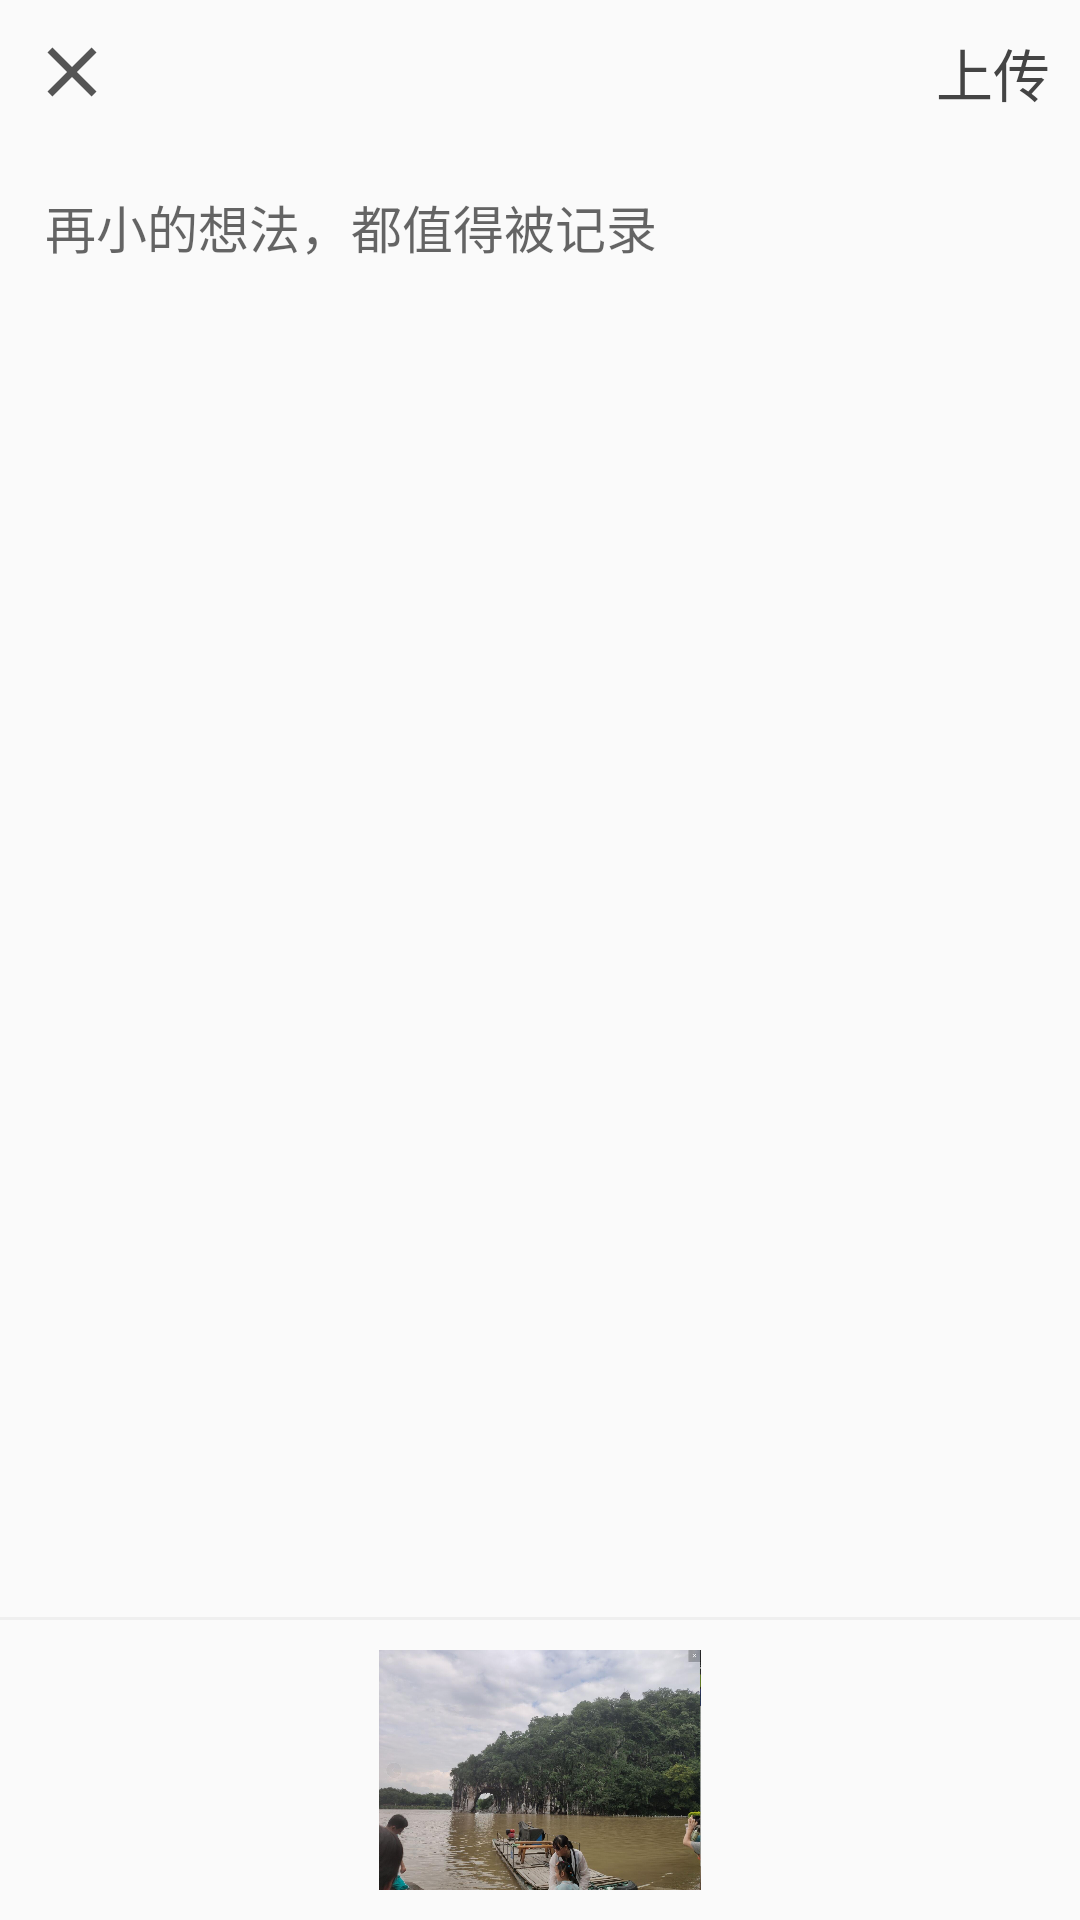

Where icons sit on this 1080 x 1920 app screen, as Rect(x1, y1, x2, y2):
close: Rect(47, 47, 97, 97)
